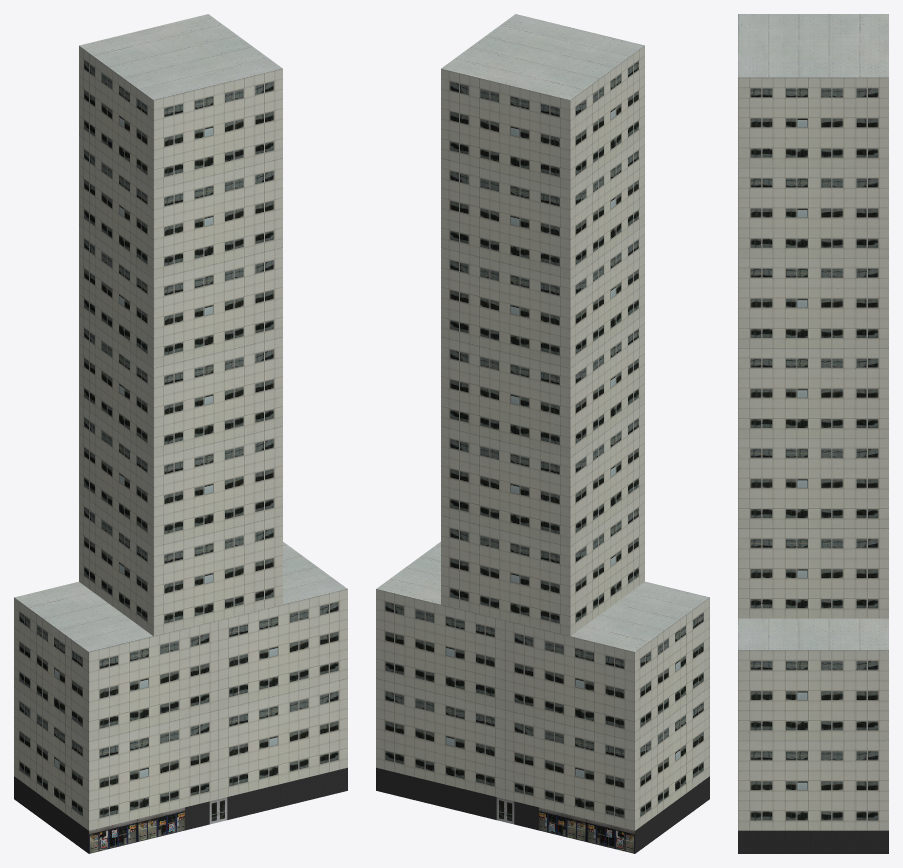
File: Building025.fbx
3 renders of one model, left to right at view 1: azimuth 30°, elevation 25°; view 2: azimuth 150°, elevation 25°; view 3: azimuth 270°, elevation 25°, orthographic.
Visible parts, largest first — view 1: Building025; view 2: Building025; view 3: Building025.
Part boxes in pixels (bbox=[...]): Building025: bbox=[14, 14, 347, 853]; Building025: bbox=[376, 14, 709, 853]; Building025: bbox=[738, 14, 888, 853].
Size of the model in its own units: 31.5 by 85.77 by 15.75.
